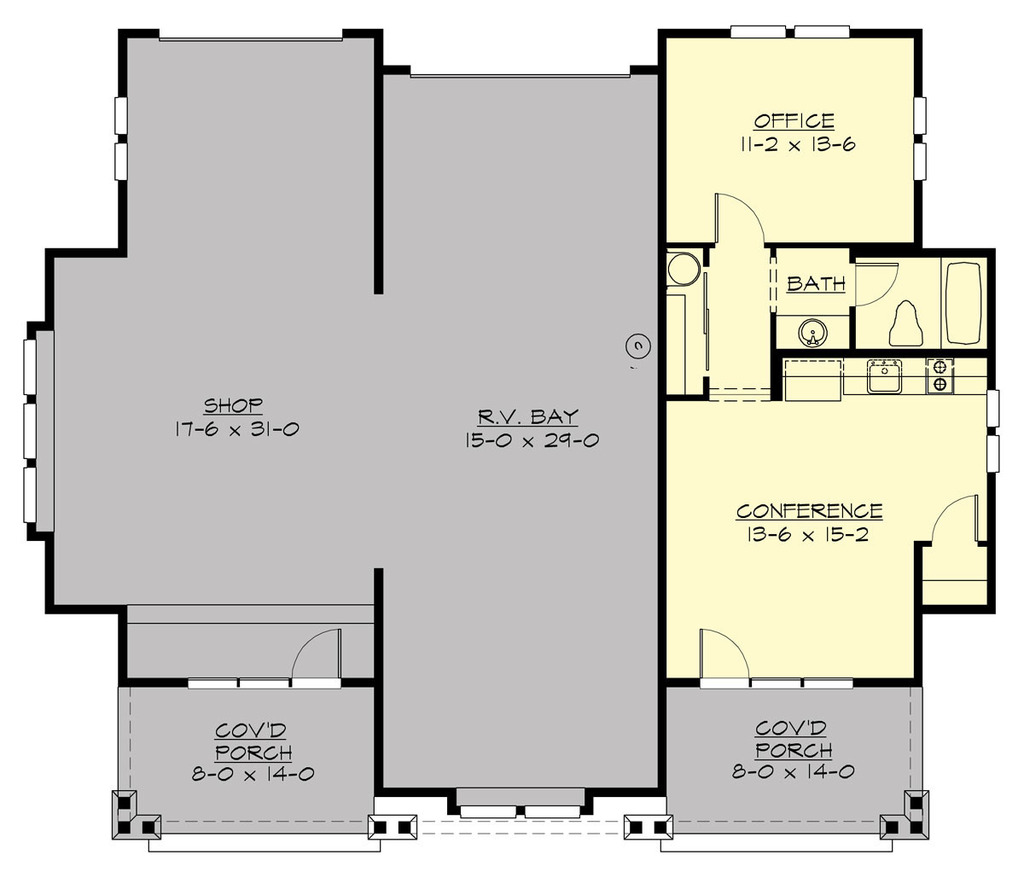door: (689, 621, 757, 697), (699, 180, 773, 249), (925, 489, 989, 553), (288, 617, 343, 690), (852, 257, 904, 308)
large_sink: (883, 294, 928, 348)
sink: (861, 354, 915, 402)
small_sink: (785, 316, 840, 348)
tub: (940, 260, 988, 353)
window: (12, 336, 49, 401), (460, 798, 531, 825), (19, 398, 47, 465), (520, 797, 583, 826), (976, 384, 1012, 429), (905, 88, 935, 137), (789, 16, 852, 38), (909, 141, 939, 186), (19, 469, 45, 518), (109, 137, 135, 185), (727, 22, 788, 38), (112, 97, 133, 138)
